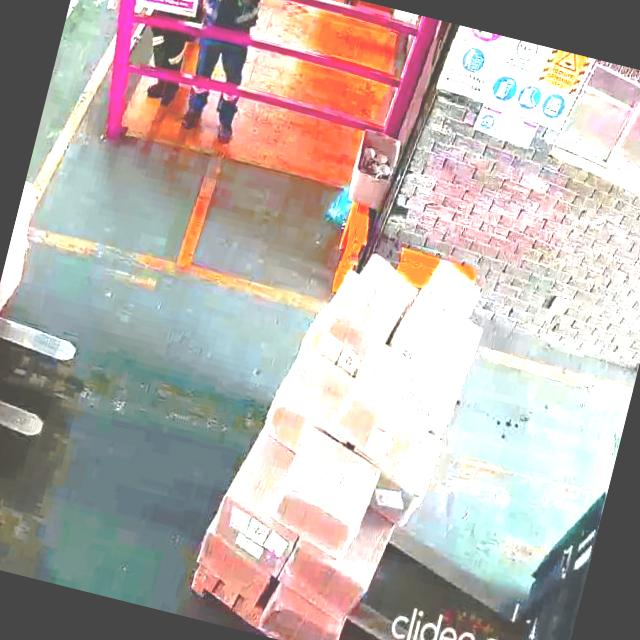Box: (334, 340, 448, 465), (268, 431, 382, 556), (388, 251, 492, 372), (269, 342, 353, 449), (277, 540, 374, 628), (334, 250, 409, 358), (206, 488, 300, 570), (185, 527, 272, 613), (260, 589, 343, 640)
